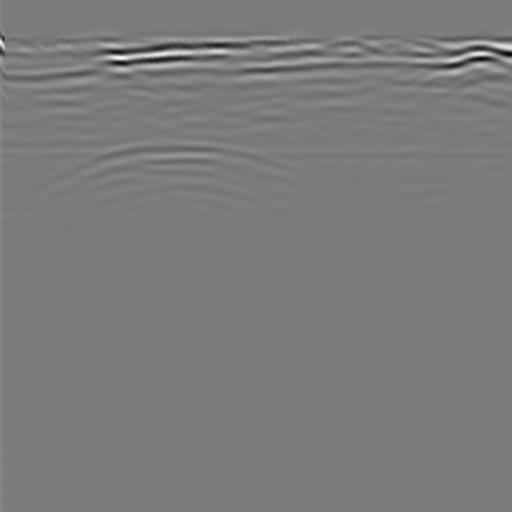hyperbola: (35, 135, 334, 233)
